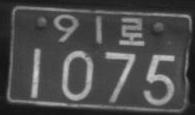0: (60, 48, 93, 102)
1: (21, 47, 47, 98), (86, 15, 110, 44)
5: (142, 53, 177, 106)
7: (104, 50, 136, 103)
9: (53, 13, 79, 41)
로: (118, 15, 145, 46)
